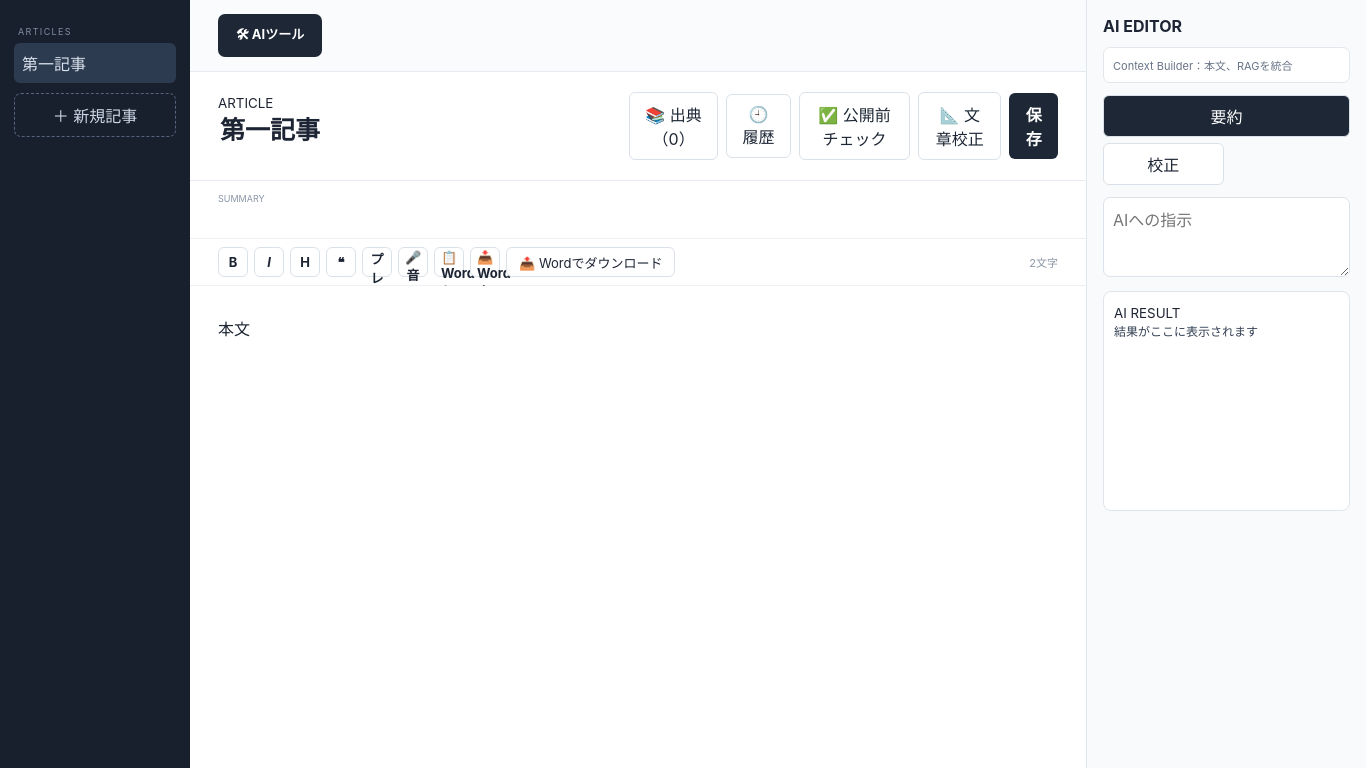
WritePanel › runs a choice-based tool with the selected option embedded in the prompt
Click the button "🛠 AIツール".
click(270, 36)  # box [218, 14, 322, 57]
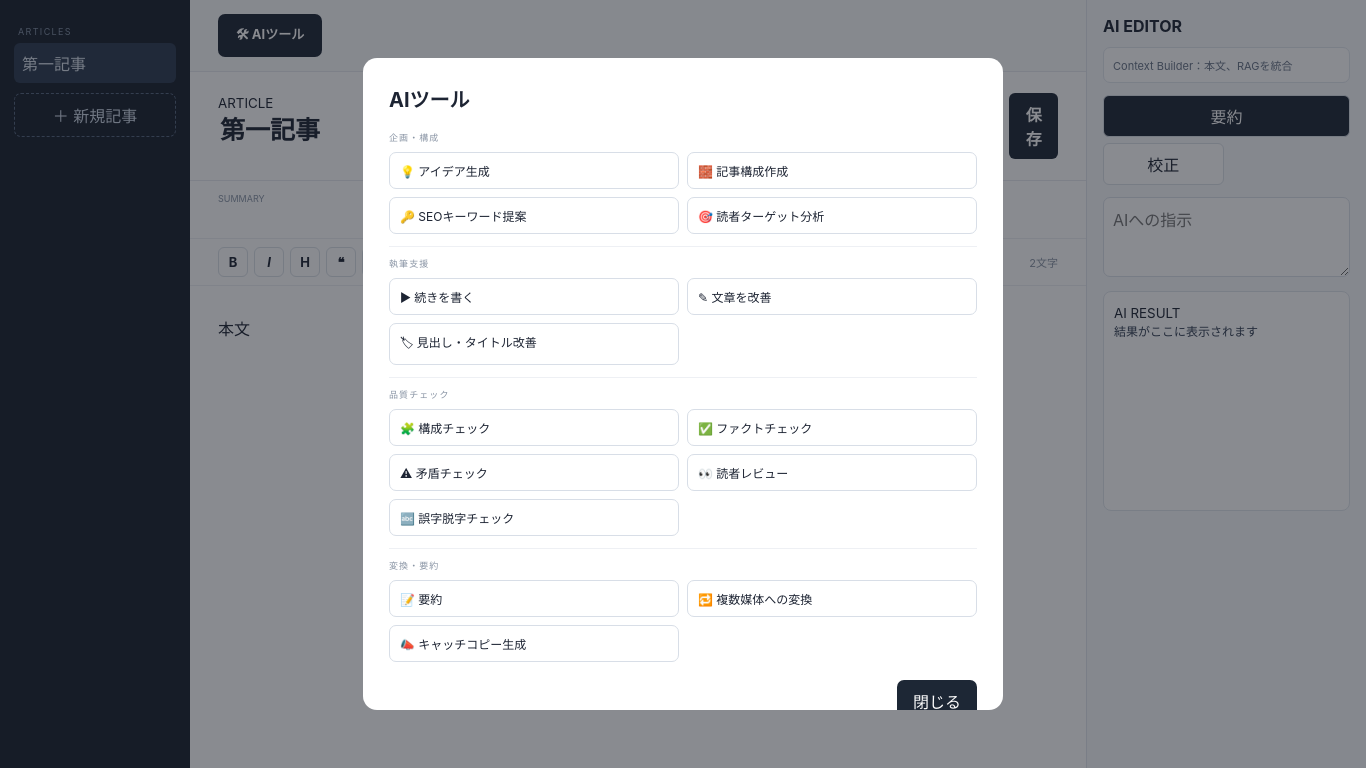
Click the button "🔁 複数媒体への変換".
click(755, 599)  # box [687, 580, 977, 617]
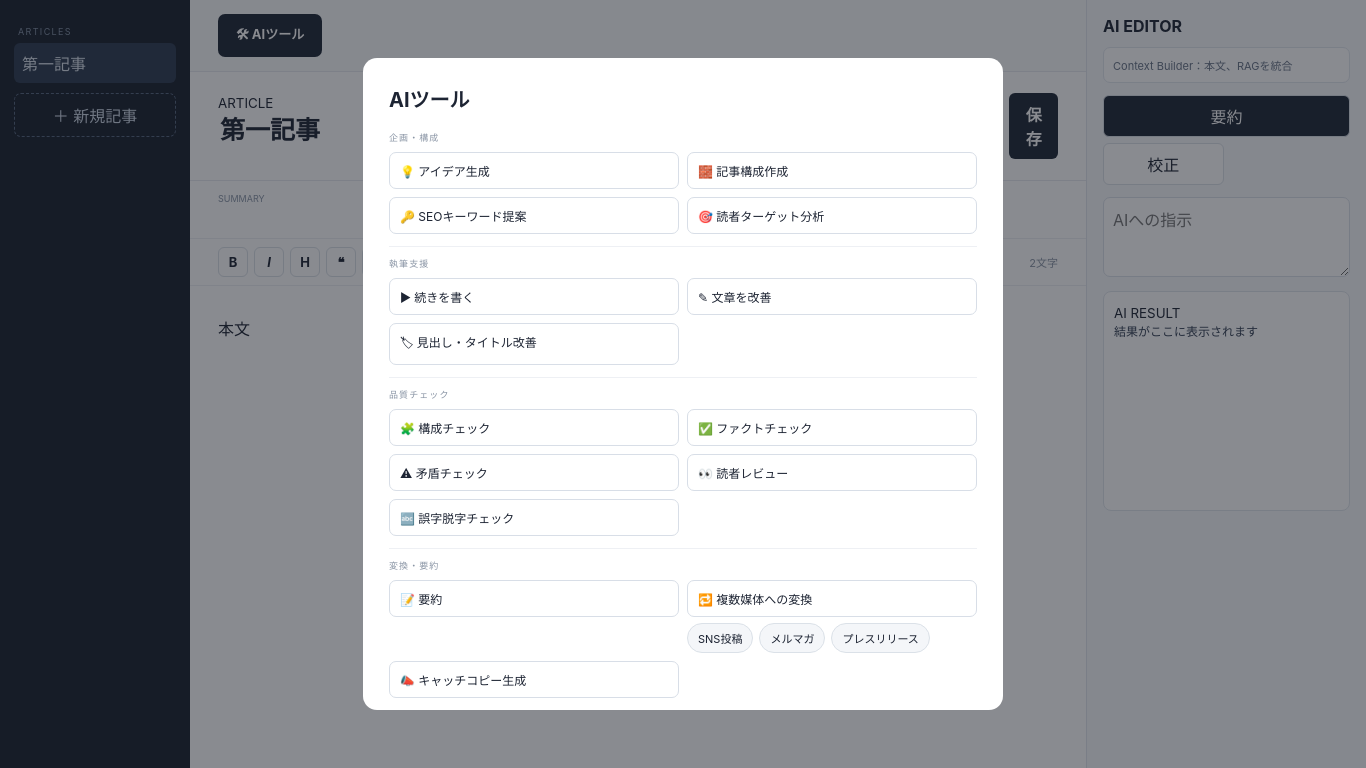
Click the button "SNS投稿".
click(720, 638)  # box [687, 623, 753, 653]
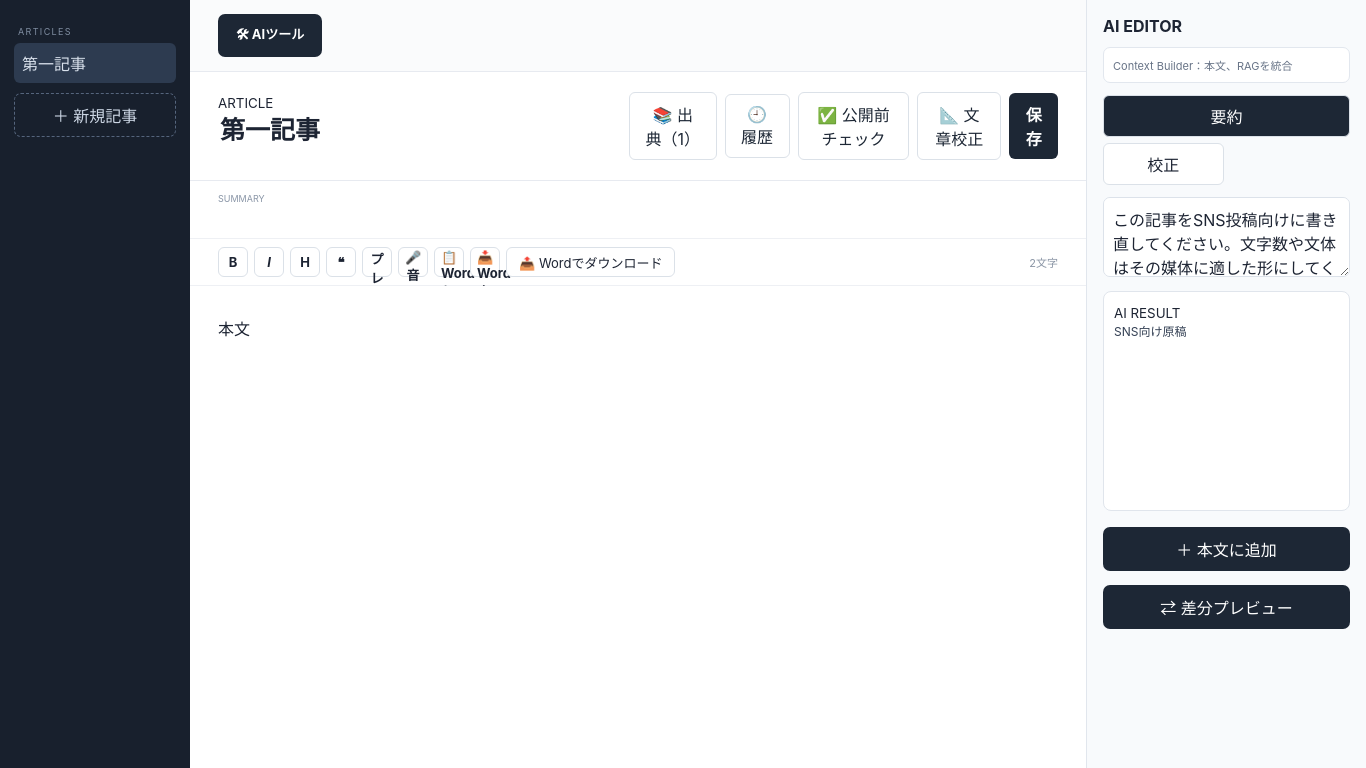
Now the text "SNS向け原稿" is shown, box [1114, 324, 1186, 339]
